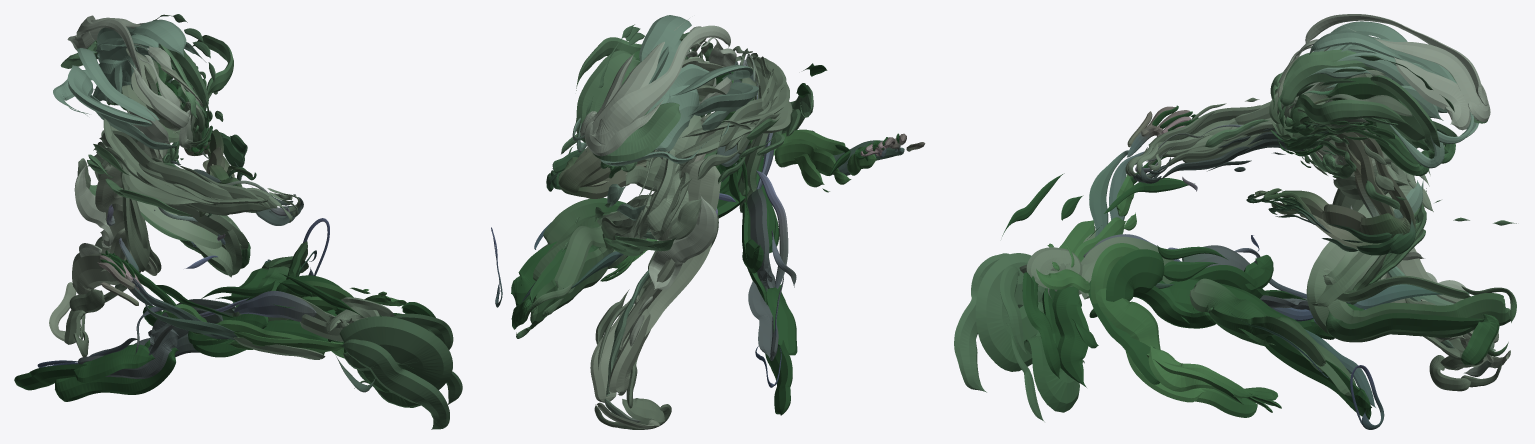
File: Punch.fbx
The picture shows the model from 3 angles, left to right: view 1: azimuth 30°, elevation 25°; view 2: azimuth 150°, elevation 25°; view 3: azimuth 270°, elevation 25°; orthographic projection. The views are drawn at different scales.
Parts seen in each view (by area): view 1: Paint; view 2: Paint; view 3: Paint.
Boxes of the visible parts, <box> form: Paint: <box>14,14,462,429</box>; Paint: <box>491,15,925,429</box>; Paint: <box>954,14,1516,429</box>.
Bounding box in the file's own units: 2.92 × 3.11 × 4.24.
